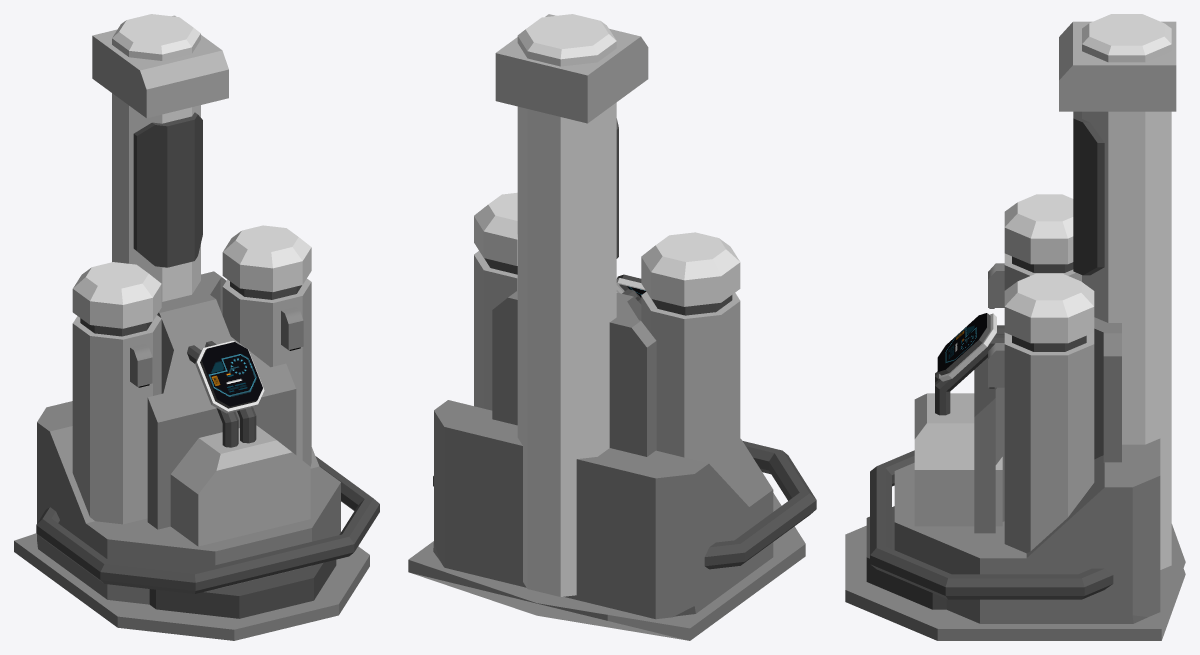
File: SM_Machine_3.fbx
The picture shows the model from 3 angles, left to right: view 1: azimuth 30°, elevation 25°; view 2: azimuth 150°, elevation 25°; view 3: azimuth 270°, elevation 25°; orthographic projection. The views are drawn at different scales.
Parts seen in each view (by area): view 1: SM_Machine_3; view 2: SM_Machine_3; view 3: SM_Machine_3.
Part boxes in pixels (x1,y1,x2,y2): SM_Machine_3: (14,14,379,640); SM_Machine_3: (408,14,816,640); SM_Machine_3: (845,14,1185,640).
Bounding box in the file's own units: 117 × 202 × 114.
